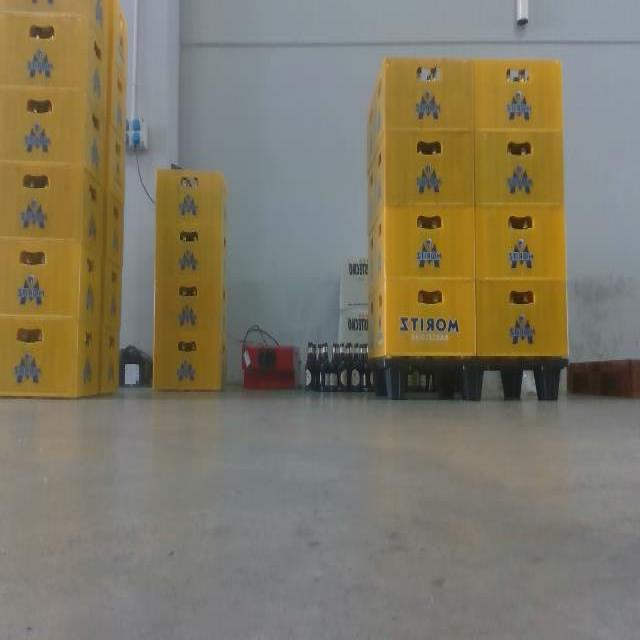block: (384, 362, 411, 403), (460, 360, 486, 402), (542, 364, 565, 404), (505, 364, 525, 400)
front: (379, 352, 570, 404)
